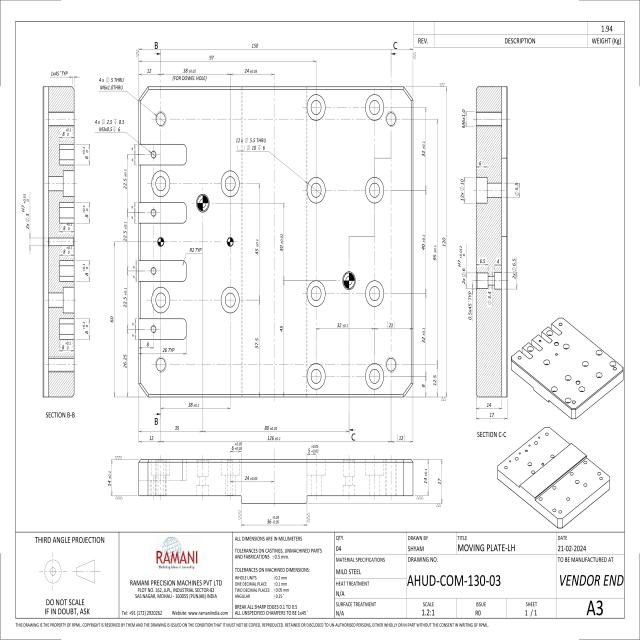dimension: (170, 66, 208, 83), (235, 134, 268, 152), (93, 116, 126, 133), (98, 75, 126, 92), (456, 243, 466, 284), (21, 190, 30, 232), (49, 69, 76, 79), (466, 289, 474, 322), (80, 260, 90, 284), (80, 318, 90, 342), (264, 514, 282, 526), (60, 125, 75, 139), (458, 176, 466, 202), (80, 201, 89, 224), (60, 340, 76, 352), (121, 286, 129, 310), (81, 143, 89, 166), (60, 244, 75, 256), (60, 222, 76, 233), (459, 108, 467, 130), (510, 255, 517, 280), (243, 474, 260, 484), (242, 66, 260, 75), (186, 400, 202, 410), (122, 166, 128, 192), (161, 346, 177, 355), (420, 233, 428, 251), (263, 423, 279, 432), (266, 433, 282, 442), (248, 40, 262, 50), (278, 232, 285, 252), (420, 138, 427, 158), (336, 320, 350, 330), (486, 286, 493, 306), (187, 246, 204, 254), (512, 181, 520, 198), (254, 237, 261, 256), (122, 220, 128, 242), (231, 441, 243, 452), (306, 444, 319, 454), (420, 326, 427, 344), (432, 243, 438, 263), (106, 469, 112, 488), (422, 466, 428, 485), (386, 319, 396, 330), (396, 432, 406, 443), (122, 352, 128, 370), (254, 335, 261, 350), (431, 373, 438, 388), (172, 423, 182, 433), (206, 53, 217, 62), (440, 236, 447, 249), (144, 66, 154, 75), (477, 256, 487, 265), (484, 400, 493, 410), (487, 410, 497, 419), (147, 433, 156, 442), (278, 323, 285, 334), (144, 340, 152, 349), (108, 314, 115, 324), (477, 158, 484, 168), (436, 476, 442, 487), (419, 382, 427, 390), (496, 256, 502, 265)
